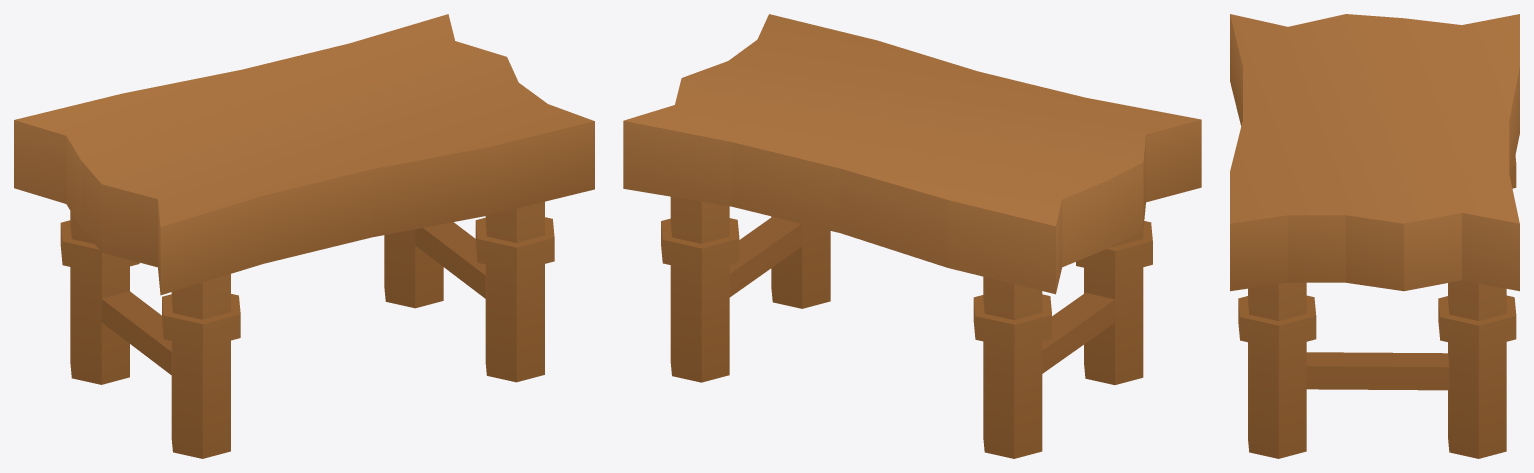
Rendered from table.glb.
The picture shows the model from 3 angles, left to right: view 1: azimuth 30°, elevation 25°; view 2: azimuth 150°, elevation 25°; view 3: azimuth 270°, elevation 25°; orthographic projection.
Parts seen in each view (by area): view 1: table; view 2: table; view 3: table.
Boxes of the visible parts, left/top/right/bottom form: table: left=14, top=14, right=594, bottom=458; table: left=623, top=14, right=1201, bottom=458; table: left=1230, top=14, right=1519, bottom=458.
Size of the model in its own units: 14.96 by 8.25 by 8.73.
1 material, 1 textured.
